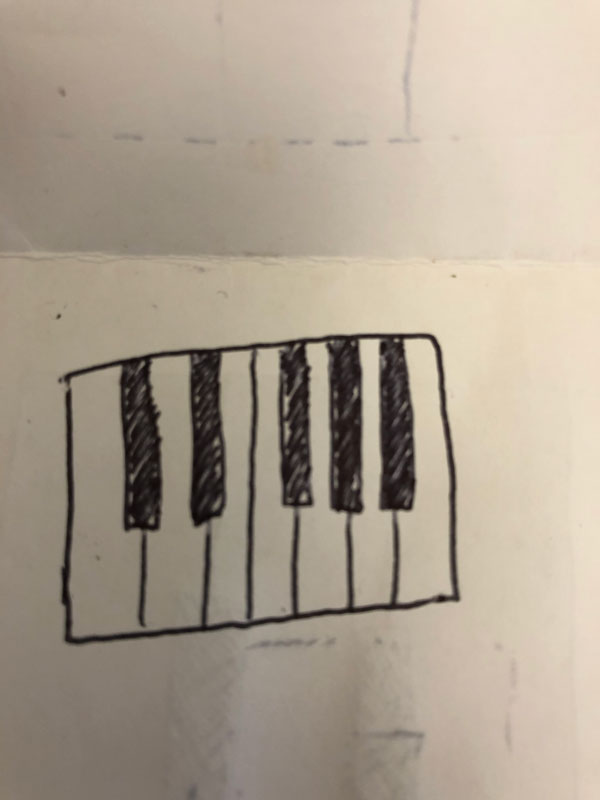piano: (50, 323, 465, 653)
